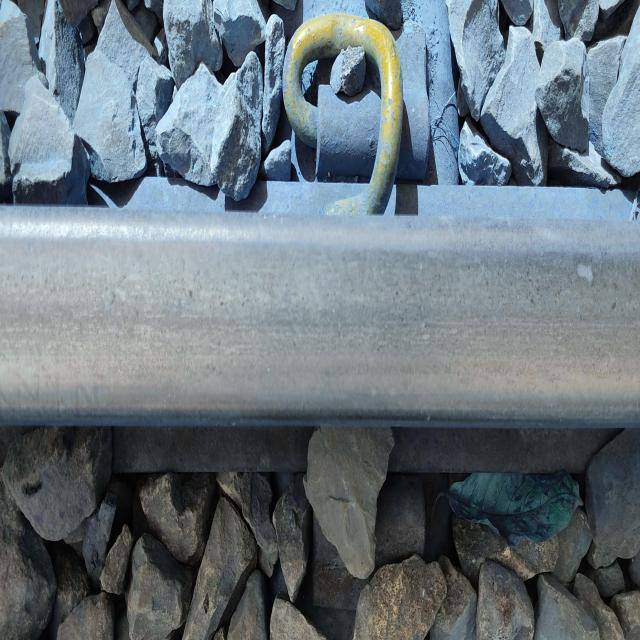Good Fasteners: (277, 8, 439, 226)
